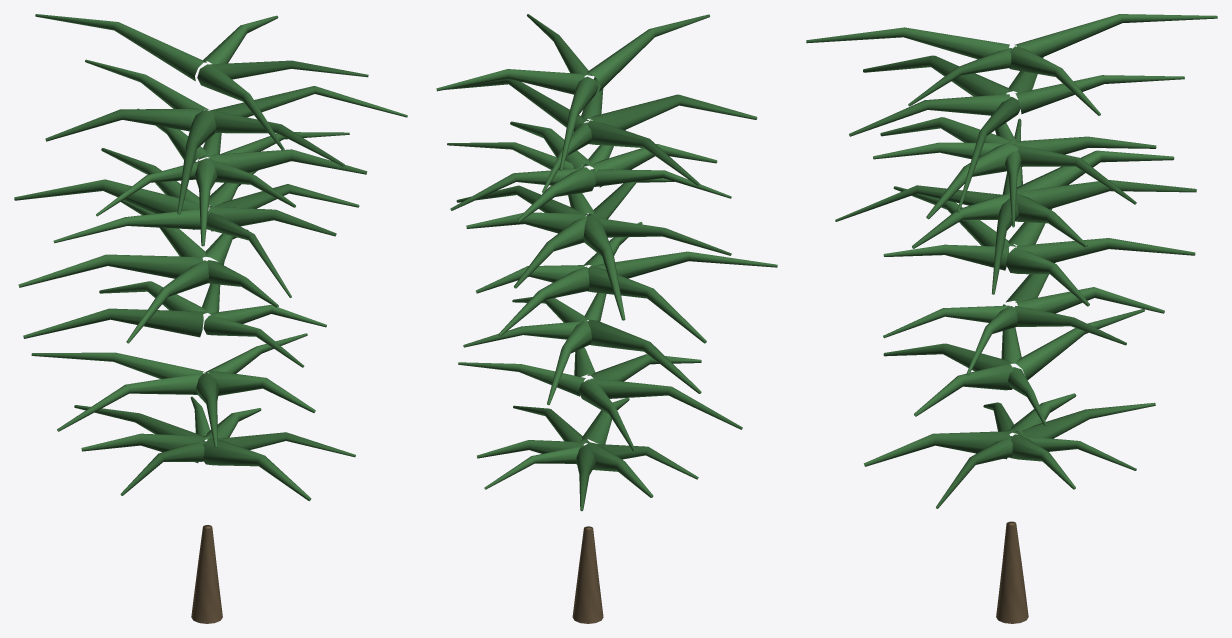
The model's file is field_fir_c_lod0.glb.
The picture shows the model from 3 angles, left to right: view 1: azimuth 30°, elevation 25°; view 2: azimuth 150°, elevation 25°; view 3: azimuth 270°, elevation 25°; orthographic projection. The views are drawn at different scales.
Visible parts, largest first — view 1: foliage, bark; view 2: foliage, bark; view 3: foliage, bark.
Boxes of the visible parts, x1=… form: foliage: x1=14, y1=14, x2=407, y2=501; bark: x1=191, y1=525, x2=222, y2=623; foliage: x1=436, y1=14, x2=777, y2=511; bark: x1=572, y1=526, x2=603, y2=623; foliage: x1=806, y1=14, x2=1217, y2=508; bark: x1=996, y1=521, x2=1028, y2=623.
Size of the model in its own units: 4.56 by 7.5 by 4.79.
